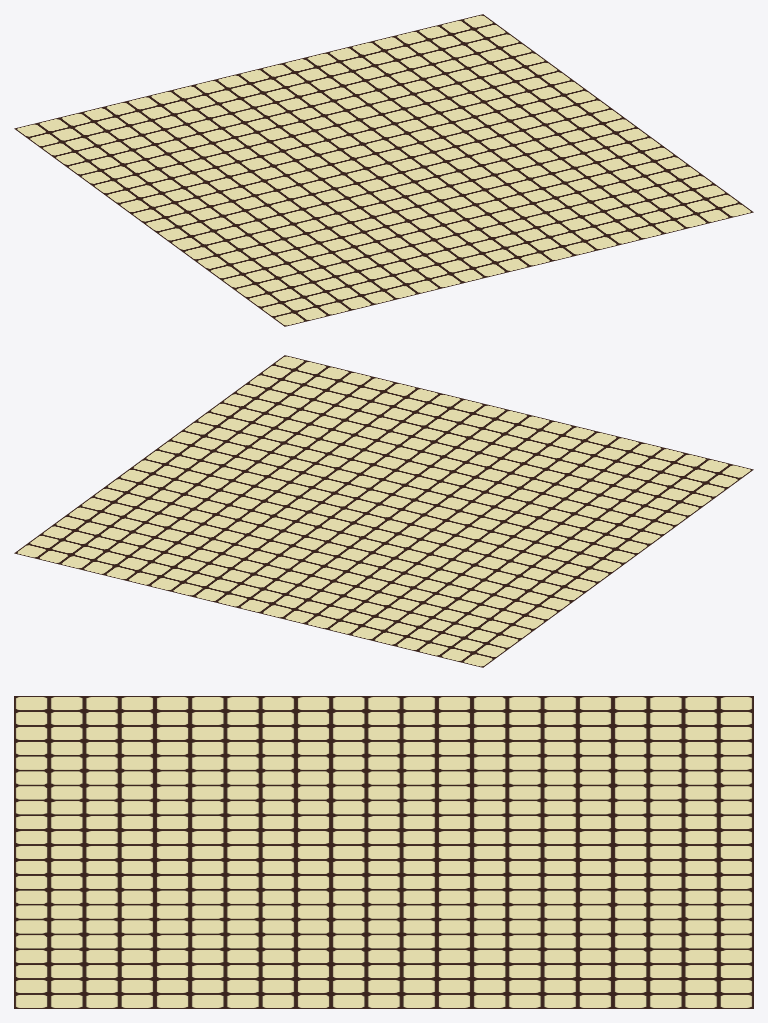
Rendered from Floor.fbx.
3 renders of one model, top to bottom at view 1: azimuth 30°, elevation 25°; view 2: azimuth 150°, elevation 25°; view 3: azimuth 270°, elevation 25°, orthographic. The views are drawn at different scales.
Parts seen in each view (by area): view 1: Floor; view 2: Floor; view 3: Floor.
Part boxes in pixels (box(x1,y1,x2,y2)): Floor: box(14, 14, 753, 326); Floor: box(14, 355, 753, 667); Floor: box(14, 696, 753, 1008).
Size of the model in its own units: 200 by 0 by 200.
